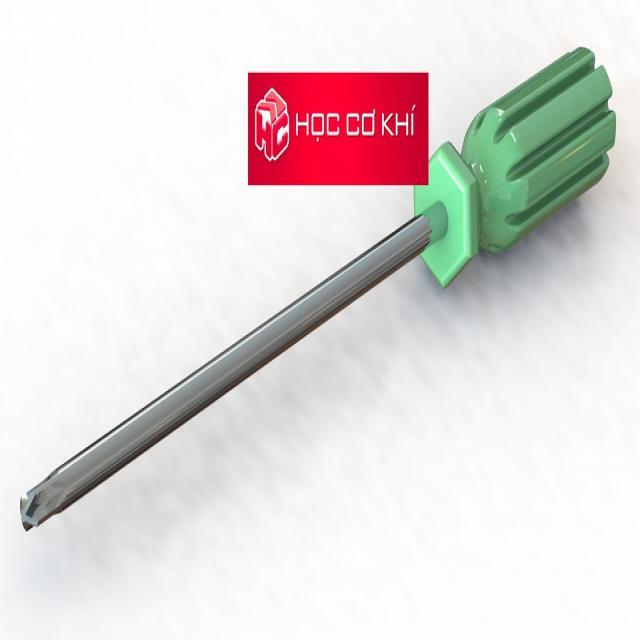screwdriver: (18, 41, 620, 538)
